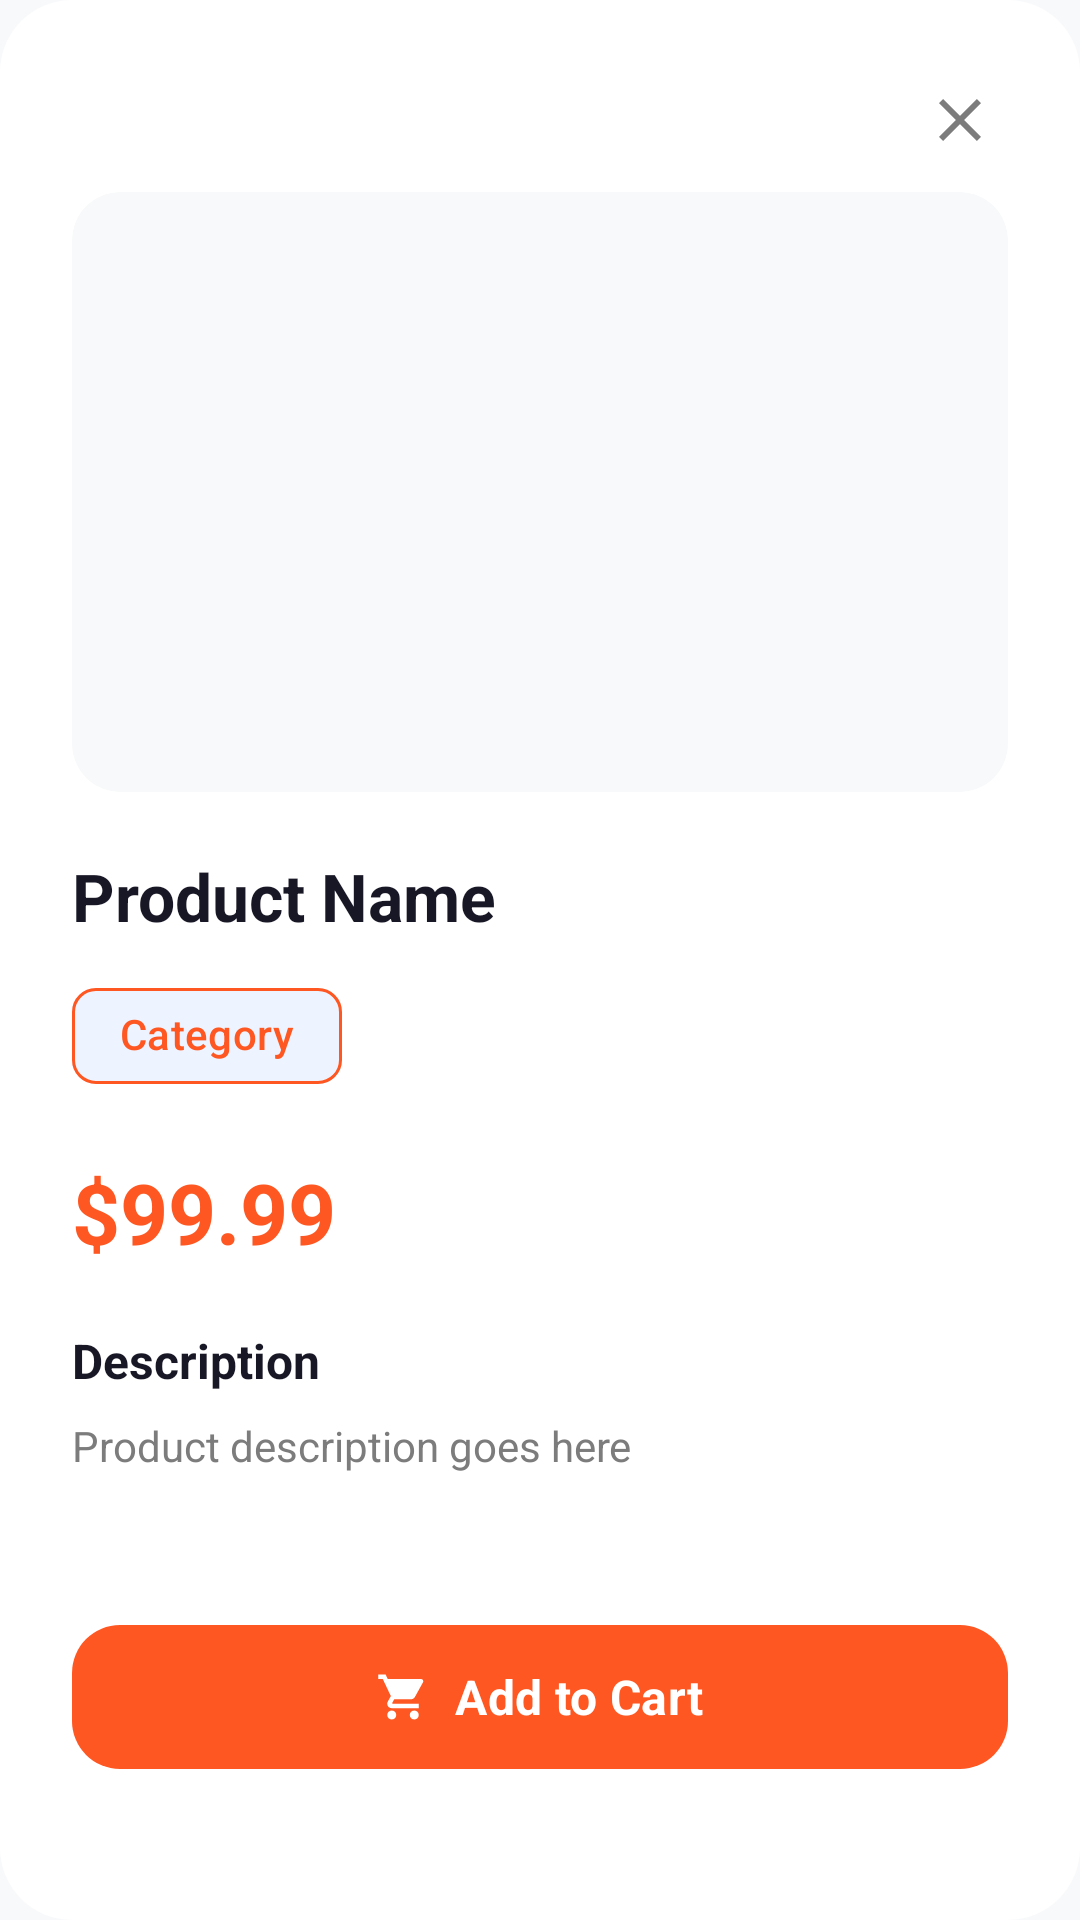

Icons on this 1080px×1920px Android screen, each with its box as (x1,y1,x2,y2):
Close: (939,99,981,141)
